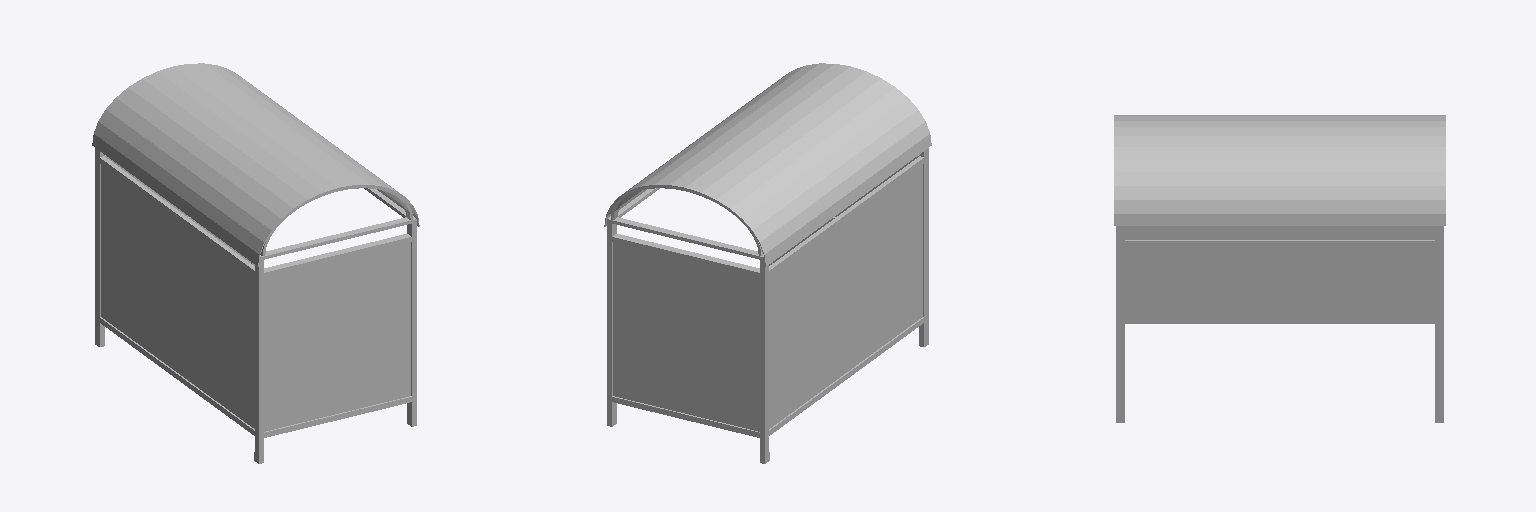
The model's file is BusStop.obj.
3 renders of one model, left to right at view 1: azimuth 30°, elevation 25°; view 2: azimuth 150°, elevation 25°; view 3: azimuth 270°, elevation 25°, orthographic.
Visible parts, largest first — view 1: BusStop; view 2: BusStop; view 3: BusStop.
Boxes of the visible parts, x1,y1,x2,y2 form: BusStop: [92, 63, 419, 463]; BusStop: [604, 63, 931, 463]; BusStop: [1114, 115, 1445, 422].
Size of the model in its own units: 2.05 by 3.12 by 3.64.